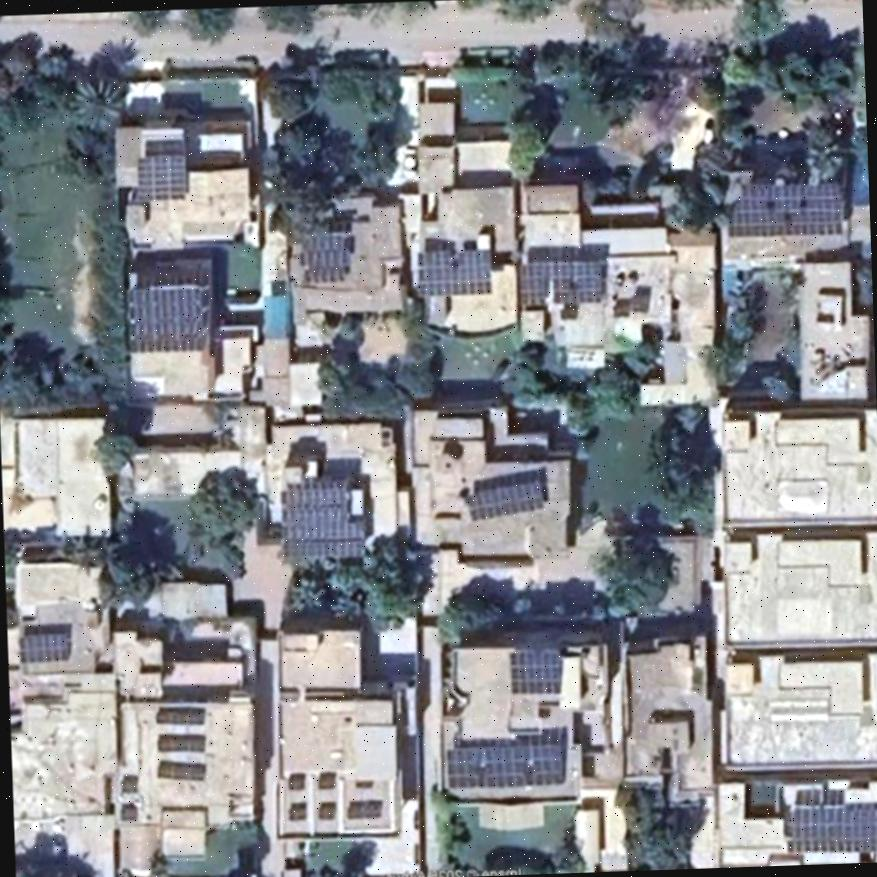Solarpanel: (281, 483, 363, 560), (444, 742, 562, 784), (739, 182, 841, 225), (127, 288, 200, 344), (792, 809, 877, 852), (518, 263, 600, 302), (416, 249, 487, 293), (466, 479, 542, 518), (508, 653, 560, 693), (137, 155, 185, 197), (300, 235, 340, 275), (21, 634, 68, 660), (156, 763, 206, 779), (158, 733, 205, 750), (156, 711, 203, 722), (347, 804, 382, 817)
